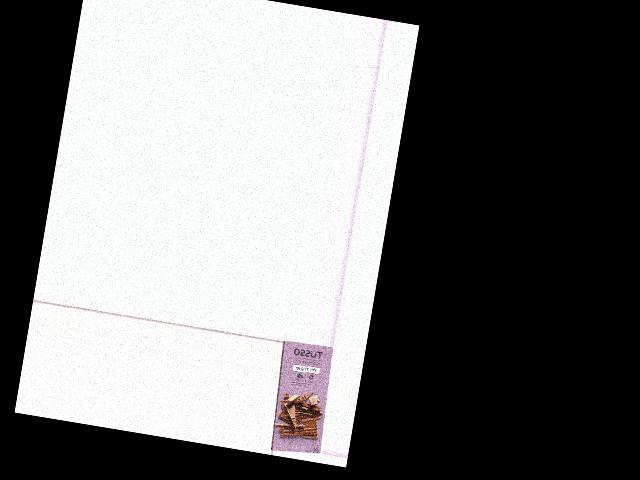chocolate: (268, 342, 334, 457)
